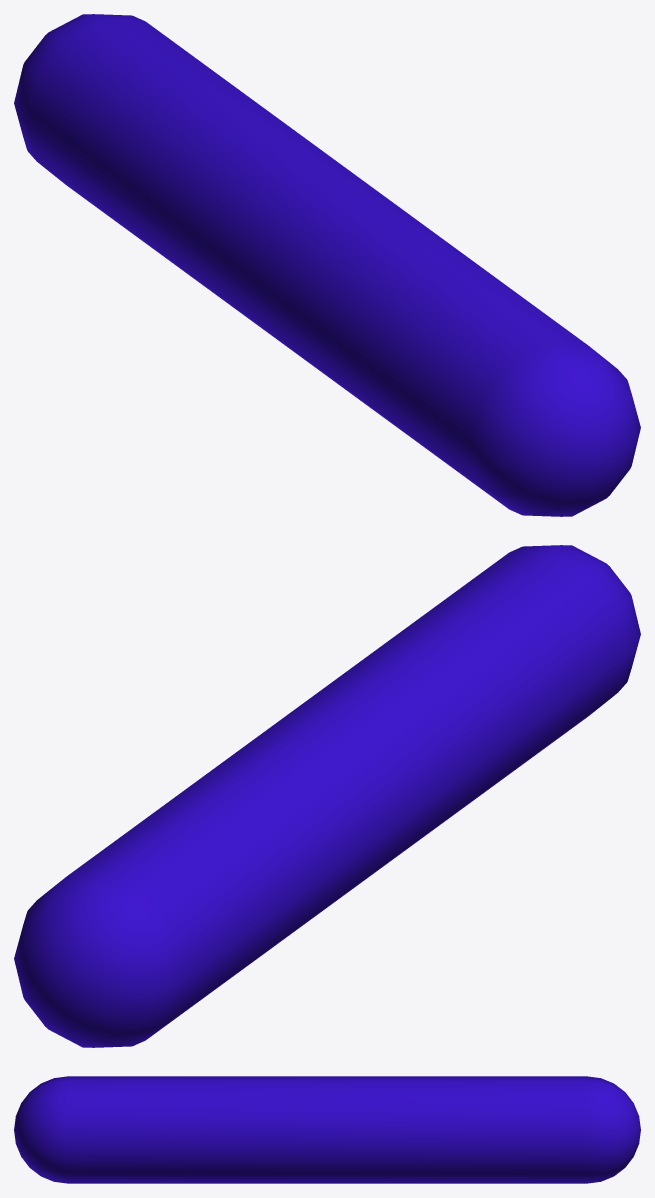
Rendered from Mapa14_TiroD.FBX.
3 views of the same model, one above another, from view 1: azimuth 30°, elevation 25°; view 2: azimuth 150°, elevation 25°; view 3: azimuth 270°, elevation 25° (orthographic). The views are drawn at different scales.
Parts seen in each view (by area): view 1: TiroD_Mapa14; view 2: TiroD_Mapa14; view 3: TiroD_Mapa14.
Part boxes in pixels (x1,y1,x2,y2): TiroD_Mapa14: [14, 14, 640, 516]; TiroD_Mapa14: [14, 545, 640, 1047]; TiroD_Mapa14: [14, 1076, 640, 1183].
Size of the model in its own units: 8.98 by 8.98 by 52.32.
